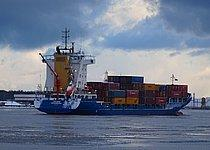Ship: (30, 28, 195, 118)
